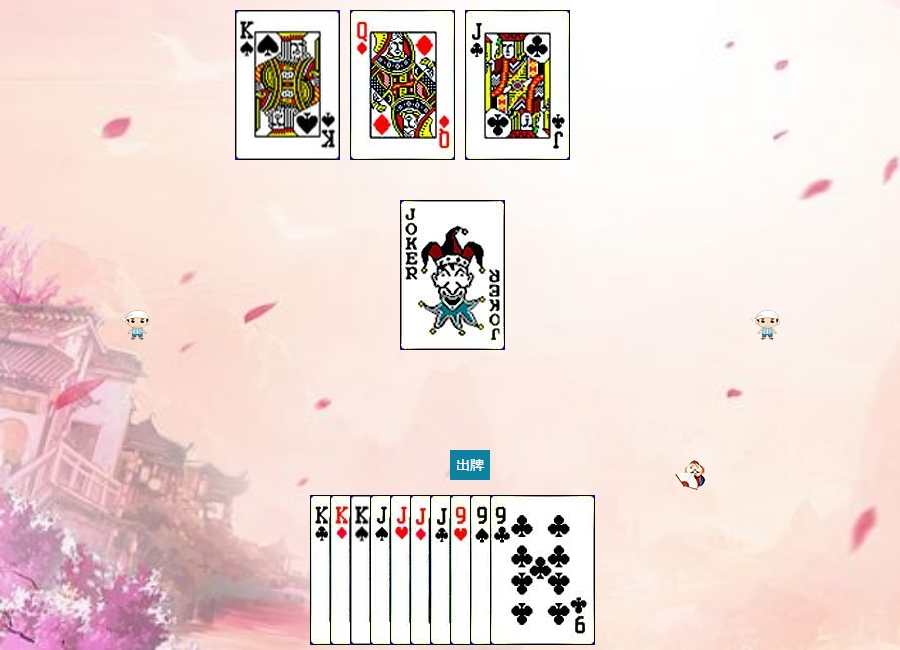11~1: (410, 495, 515, 645)
11~2: (465, 10, 570, 160), (430, 495, 535, 645)
11~3: (390, 495, 495, 645)
11~4: (370, 495, 475, 645)
12~1: (350, 10, 455, 160)
13~1: (330, 495, 435, 645)
13~2: (310, 495, 415, 645)
13~4: (235, 10, 340, 160), (350, 495, 455, 645)
17~3: (400, 200, 505, 350)
9~2: (490, 495, 595, 645)
9~3: (450, 495, 555, 645)
9~4: (470, 495, 575, 645)
